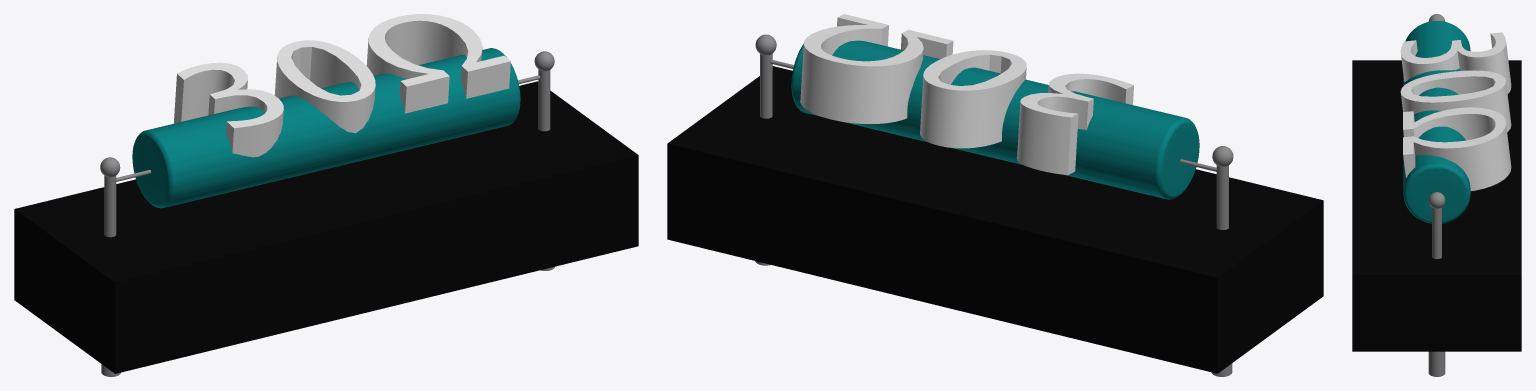
3 views of the same model, side by side, from view 1: azimuth 30°, elevation 25°; view 2: azimuth 150°, elevation 25°; view 3: azimuth 270°, elevation 25° (orthographic). The views are drawn at different scales.
Parts seen in each view (by area): view 1: pCube1, pCylinder1, typeMesh1, pCylinder3, pasted__pCylinder3; view 2: pCube1, typeMesh1, pCylinder1, pCylinder3, pasted__pCylinder3; view 3: pCube1, typeMesh1, pCylinder1, pasted__pCylinder3, pasted__pCylinder4, pasted__pSphere1.
Part boxes in pixels (<box>): pCube1: <box>14,81,638,373</box>; pCylinder1: <box>132,48,520,208</box>; typeMesh1: <box>174,14,510,157</box>; pCylinder3: <box>104,175,116,237</box>; pasted__pCylinder3: <box>538,69,550,131</box>; pCube1: <box>667,66,1323,373</box>; typeMesh1: <box>800,14,1133,175</box>; pCylinder1: <box>791,40,1199,199</box>; pCylinder3: <box>1216,165,1228,229</box>; pasted__pCylinder3: <box>760,53,772,118</box>; pCube1: <box>1352,60,1521,351</box>; typeMesh1: <box>1400,32,1511,191</box>; pCylinder1: <box>1403,21,1470,223</box>; pasted__pCylinder3: <box>1432,207,1441,258</box>; pasted__pCylinder4: <box>1428,351,1445,376</box>; pasted__pSphere1: <box>1428,192,1445,208</box>.
Bounding box in the file's own units: 0.03 × 0.0135 × 0.01.
